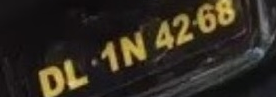1: (99, 39, 122, 74)
2: (172, 13, 194, 45)
4: (155, 19, 175, 52)
6: (196, 2, 218, 34)
8: (213, 1, 238, 27)
D: (35, 64, 66, 96)
L: (63, 56, 91, 90)
N: (119, 31, 150, 68)
